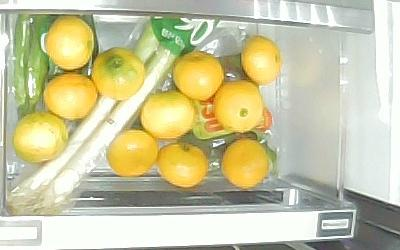tangerine: (92, 46, 146, 100), (13, 113, 69, 162), (46, 16, 96, 70), (141, 90, 196, 138), (172, 52, 225, 101), (214, 80, 263, 133), (107, 129, 158, 177), (157, 141, 208, 189), (44, 73, 97, 119), (220, 139, 269, 188), (241, 35, 282, 84)
